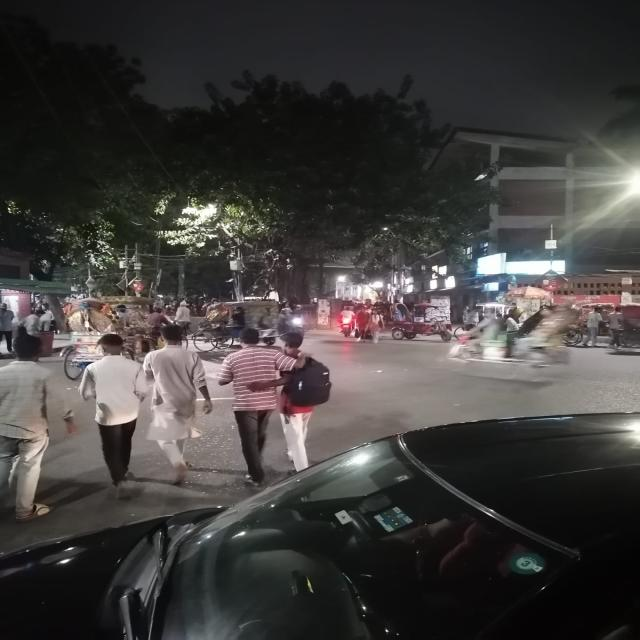person: (0, 334, 80, 522), (217, 328, 305, 487), (78, 333, 149, 498), (249, 332, 332, 472), (142, 324, 212, 485)
